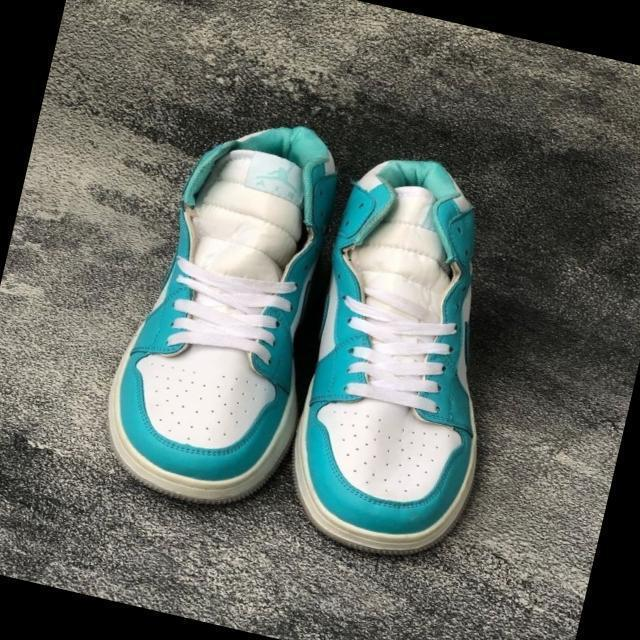nike fake jordan 1: (260, 139, 552, 575), (90, 92, 358, 519)
